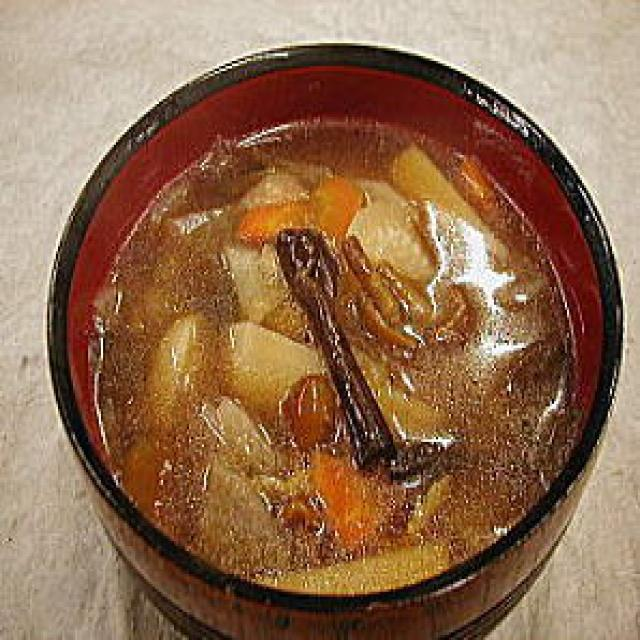蔬菜料理: (4, 25, 630, 640)
